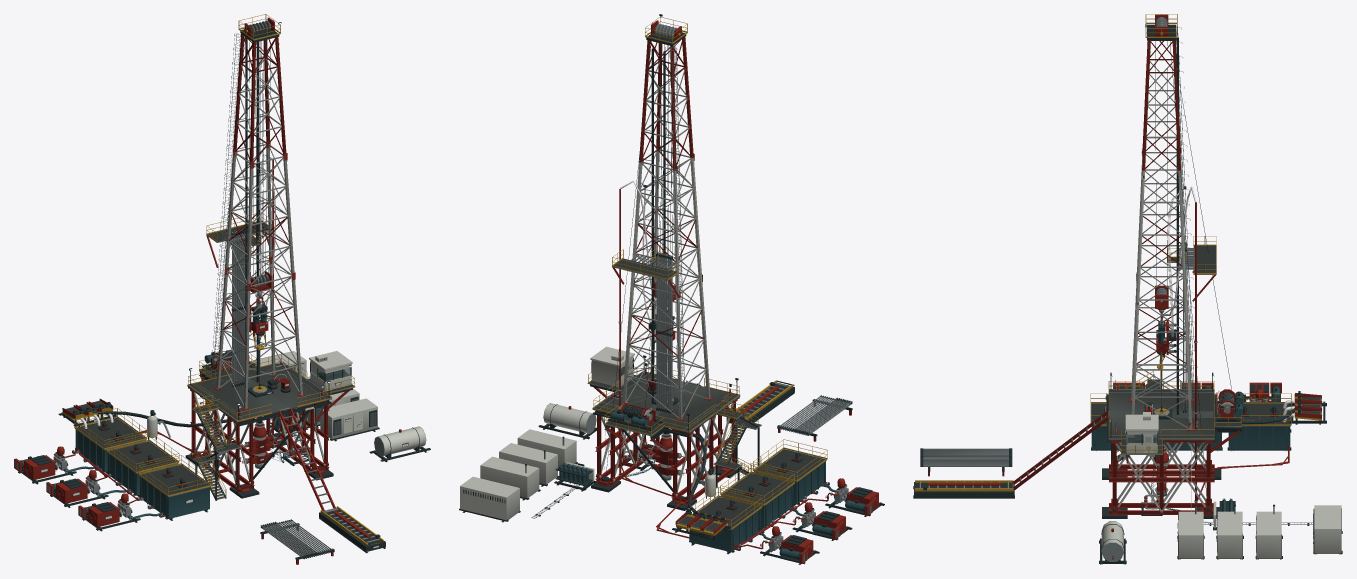
File: land_1500_ac_double_detailed_lodM.glb
The picture shows the model from 3 angles, left to right: view 1: azimuth 30°, elevation 25°; view 2: azimuth 150°, elevation 25°; view 3: azimuth 270°, elevation 25°; orthographic projection. The views are drawn at different scales.
Visible parts, largest first — view 1: derrick_ivory, drill_floor_deck, substructure_oxide, derrick_oxide, setback_pipe_steel, drill_line_dark, top_drive_guide_dark, tank_3_blue, generator_3_ivory, ladder_steel, substructure_ivory, pipe_rack_steel (+18 smaller); view 2: derrick_ivory, substructure_oxide, drill_floor_deck, derrick_oxide, setback_pipe_steel, vfd_house_ivory, ladder_steel, generator_1_ivory, top_drive_guide_dark, drill_line_dark, substructure_ivory, pipe_rack_steel (+18 smaller); view 3: derrick_ivory, drill_floor_deck, substructure_oxide, derrick_oxide, pipe_rack_steel, substructure_ivory, vfd_house_ivory, tank_1_blue, generator_1_ivory, generator_2_ivory, generator_3_ivory, catwalk_dark (+12 smaller).
Part boxes in pixels (box(x1,y1,x2,y2)): derrick_ivory: box(216, 58, 302, 408); drill_floor_deck: box(187, 362, 353, 422); substructure_oxide: box(190, 374, 349, 492); derrick_oxide: box(214, 34, 305, 410); setback_pipe_steel: box(232, 230, 247, 387); drill_line_dark: box(215, 28, 276, 431); top_drive_guide_dark: box(245, 37, 259, 382); tank_3_blue: box(136, 477, 209, 518); generator_3_ivory: box(320, 398, 377, 439); ladder_steel: box(211, 33, 241, 388); substructure_ivory: box(194, 392, 323, 483); pipe_rack_steel: box(262, 520, 332, 557); derrick_ivory: box(622, 62, 710, 419); substructure_oxide: box(593, 387, 737, 505); drill_floor_deck: box(589, 372, 740, 434); derrick_oxide: box(621, 37, 712, 420); setback_pipe_steel: box(656, 252, 672, 414); vfd_house_ivory: box(460, 476, 519, 520); ladder_steel: box(669, 46, 685, 420); generator_1_ivory: box(480, 456, 539, 498); top_drive_guide_dark: box(651, 48, 665, 403); drill_line_dark: box(605, 33, 674, 477); substructure_ivory: box(600, 403, 733, 491); pipe_rack_steel: box(779, 396, 850, 434); derrick_ivory: box(1131, 61, 1192, 429); drill_floor_deck: box(1109, 389, 1241, 453); substructure_oxide: box(1109, 430, 1240, 514); derrick_oxide: box(1128, 40, 1194, 430); pipe_rack_steel: box(923, 448, 1008, 466); substructure_ivory: box(1115, 442, 1208, 512); vfd_house_ivory: box(1313, 505, 1341, 553); tank_1_blue: box(1228, 426, 1290, 450); generator_1_ivory: box(1256, 511, 1281, 558); generator_2_ivory: box(1217, 511, 1242, 558); generator_3_ivory: box(1178, 511, 1203, 558); catwalk_dark: box(913, 482, 1014, 498).
Bounding box in the file's own units: 41.77 × 53.86 × 43.9.
13 materials, 11 textured.
